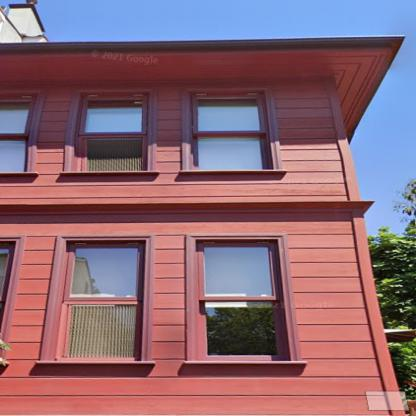window: (202, 246, 280, 356), (66, 247, 138, 358), (196, 96, 264, 169), (82, 96, 147, 171), (1, 101, 34, 172), (0, 249, 11, 313)
